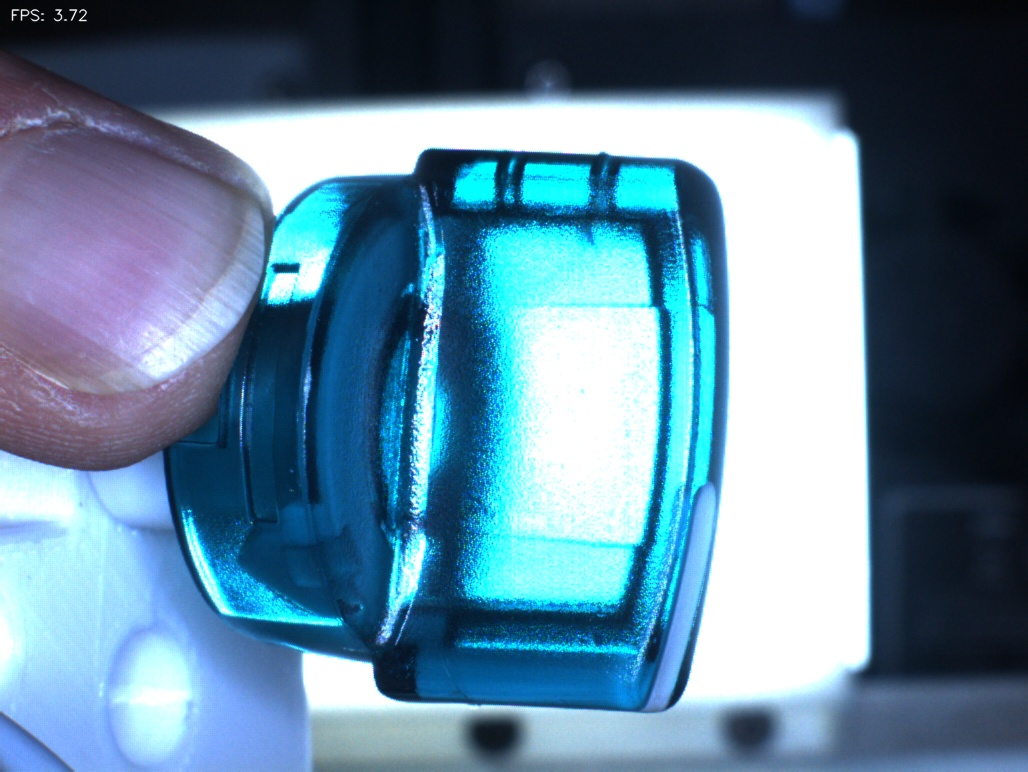Bulle: (565, 122, 663, 212)
